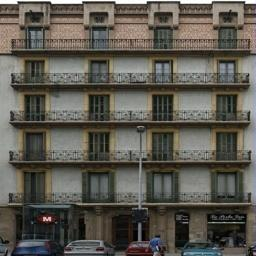building: (2, 0, 256, 241)
